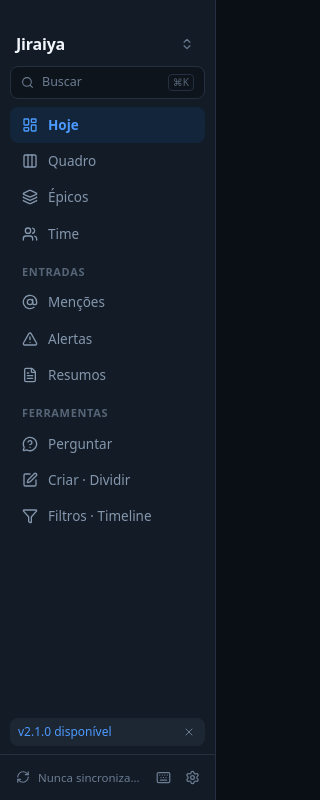
Test: Shell › push:update-available mostra o pill de atualização e o X dispensa
Expected: the link "v2.1.0 disponível" is shown, [18,723,112,740]
What coordinates should you click on to do the following:
click the button named "Dispensar"
I would click on:
 (189, 732)
Its box is [181,724,197,740].
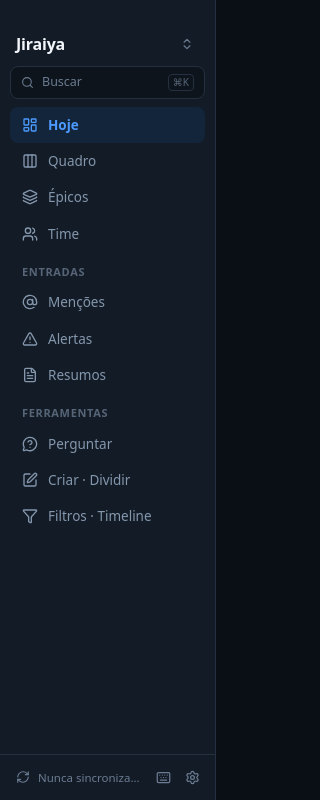
Now the link "v2.1.0 disponível" is gone
